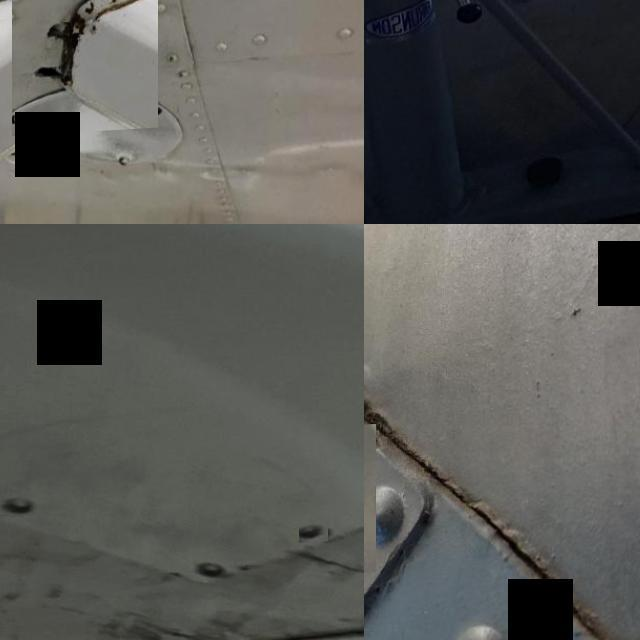Crack: (12, 0, 157, 138)
Missing_Fastener: (1, 498, 39, 524), (196, 562, 228, 588), (299, 531, 328, 550)
